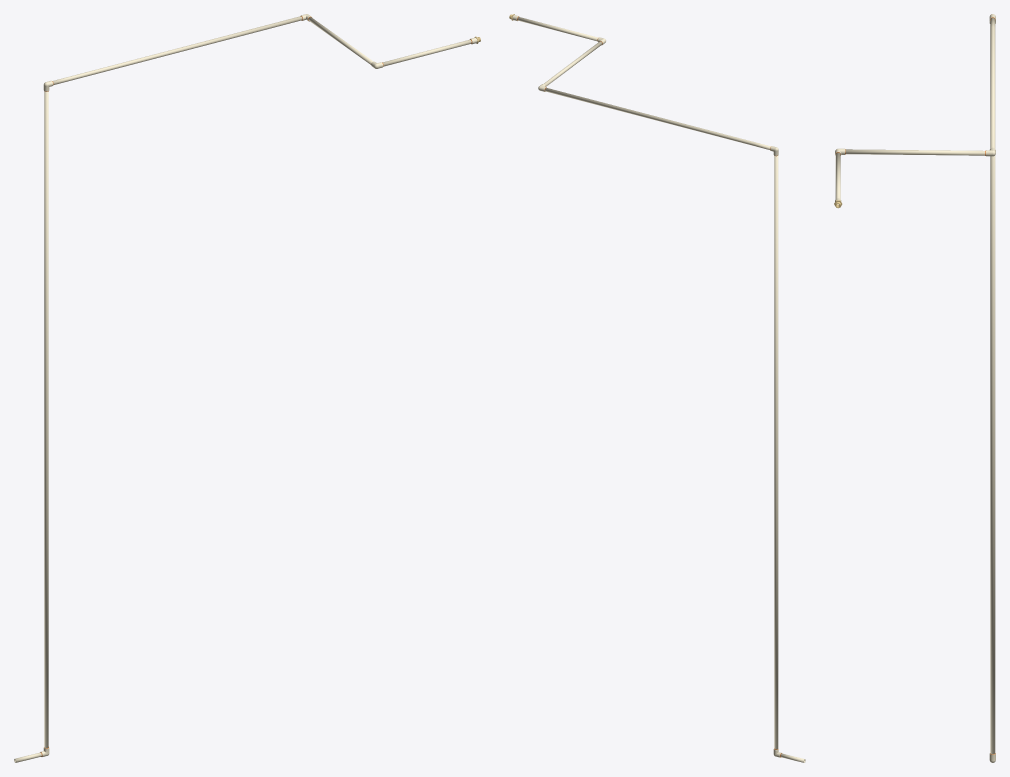
Rendered from pipes_supply__water_heater-attic_gas_tank+attic_electric_tank.glb.
3 renders of one model, left to right at view 1: azimuth 30°, elevation 25°; view 2: azimuth 150°, elevation 25°; view 3: azimuth 270°, elevation 25°, orthographic. The views are drawn at different scales.
Parts seen in each view (by area): view 1: pipe_supply_pan_drain; view 2: pipe_supply_pan_drain; view 3: pipe_supply_pan_drain.
Boxes of the visible parts, <box> form: pipe_supply_pan_drain: <box>14,16,471,762</box>; pipe_supply_pan_drain: <box>517,17,805,762</box>; pipe_supply_pan_drain: <box>835,18,995,754</box>.
Bounding box in the file's own units: 2.33 × 3.84 × 0.7435.
